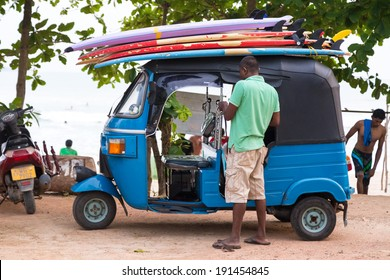motorbike: (1, 105, 51, 214)
threewheel: (70, 55, 354, 241)
